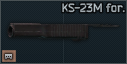KS-23M forestock: (0, 0, 127, 64)
